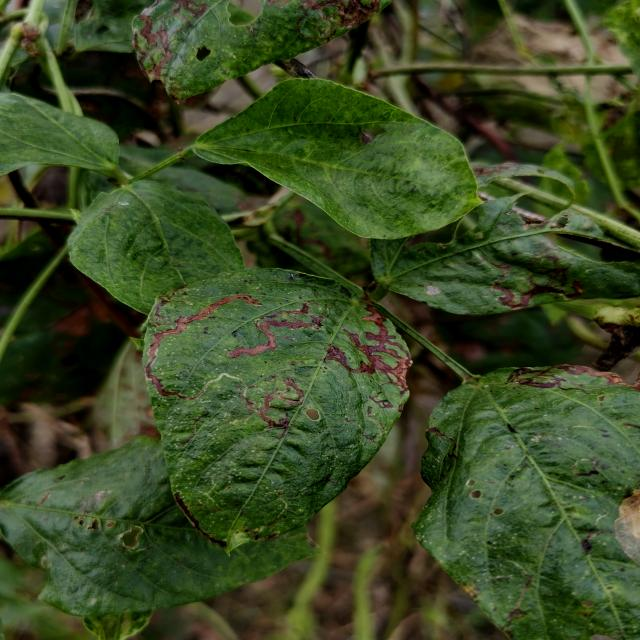leaf-healthy: (155, 269, 410, 527)
sitaw-aphid-high: (413, 366, 640, 640), (204, 79, 480, 239)
